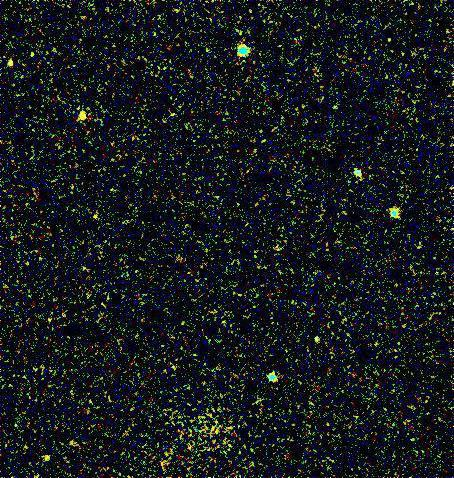star: (66, 103, 96, 133)
